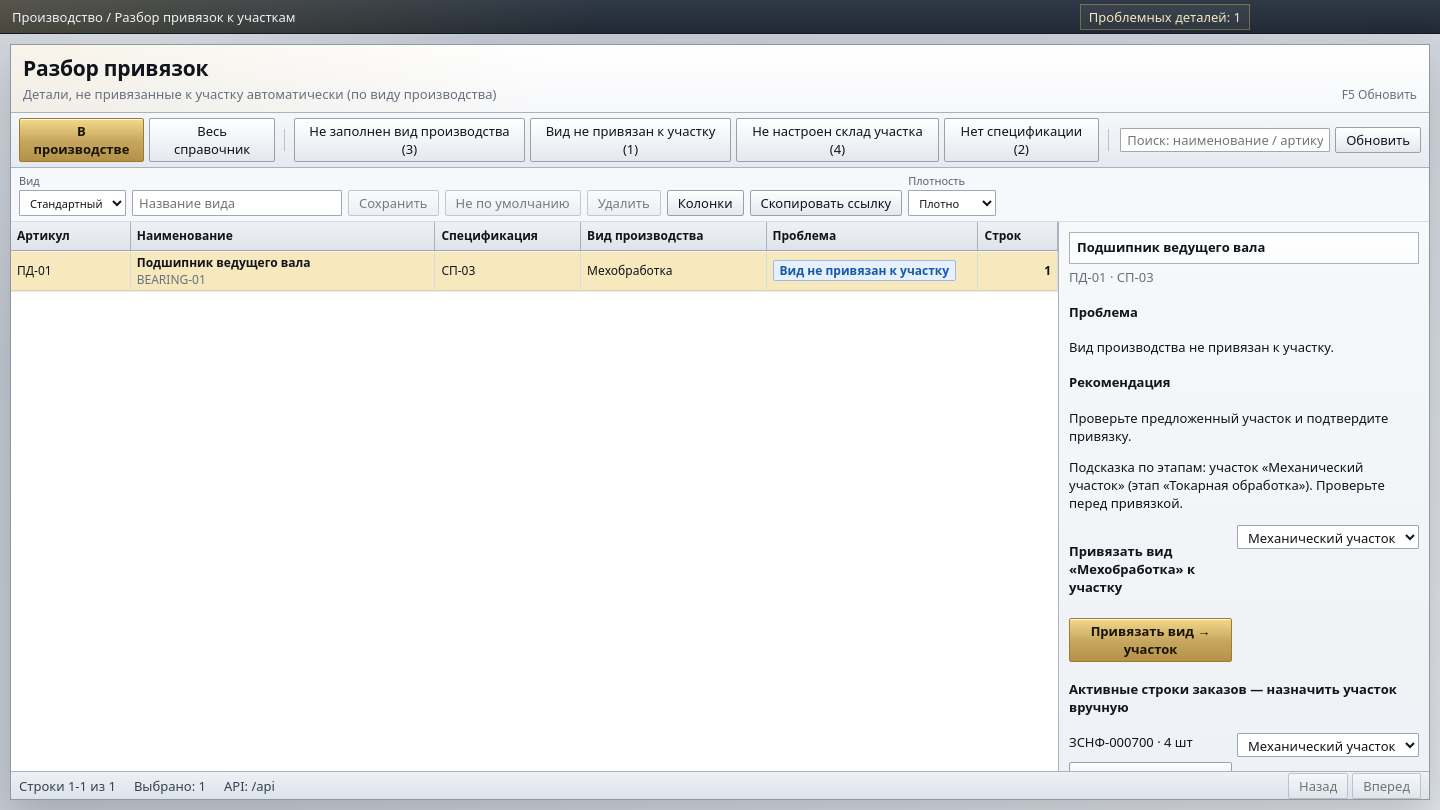
Test case: WorkshopBindingReviewPage characterization › does not load order lines for a catalog item without active lines
Check: the text "ЗСНФ-000700 · 4 шт" is shown, box [1069, 733, 1193, 751]
Click the button "Весь справочник" at (212, 140), box [149, 118, 275, 162]
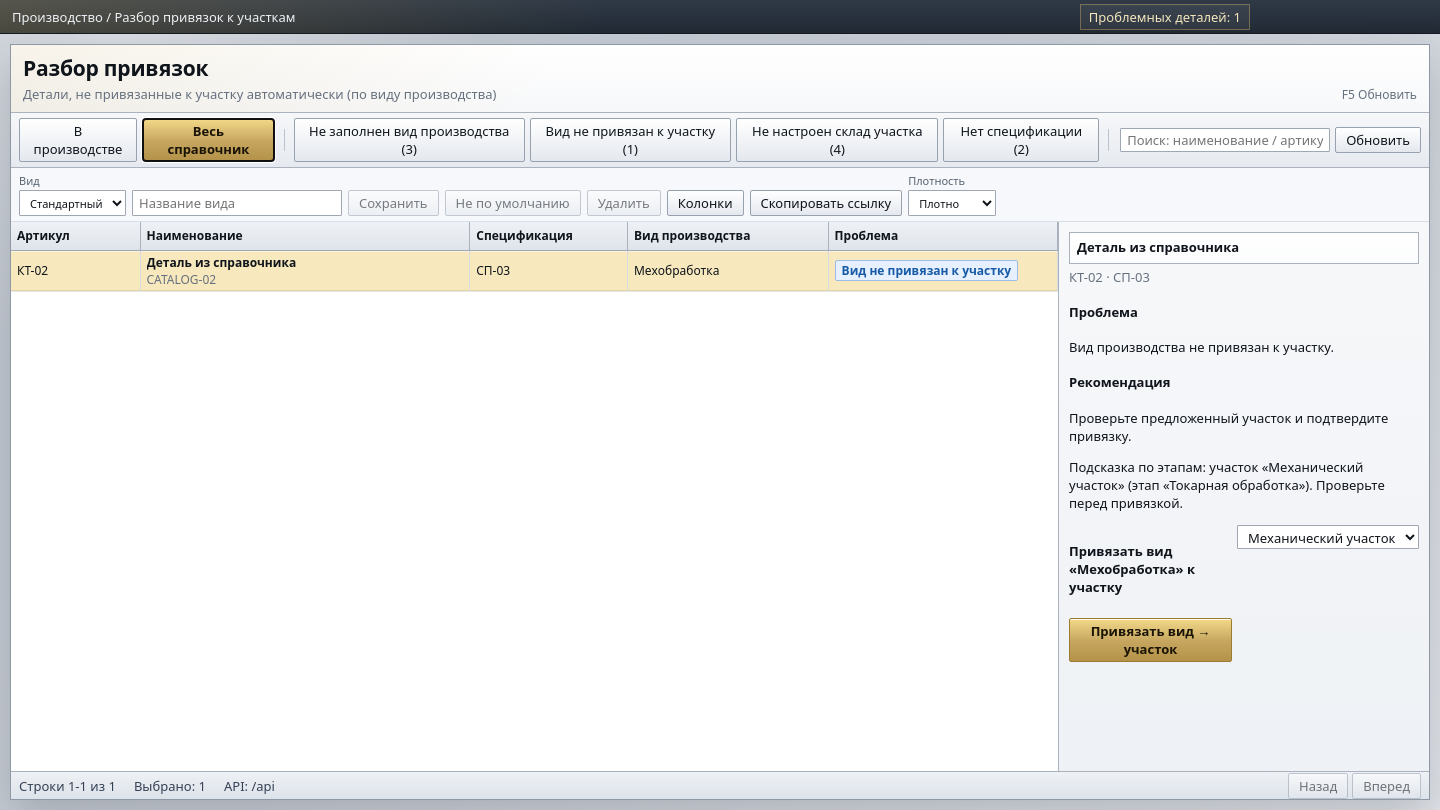
Check: the text "Деталь из справочника" below "Артикул" is shown, box [146, 254, 296, 270]
